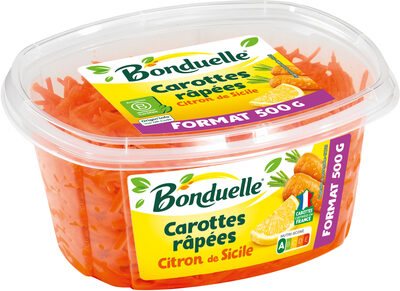Carottes rapees citron dnp 500g: (20, 15, 380, 276)
